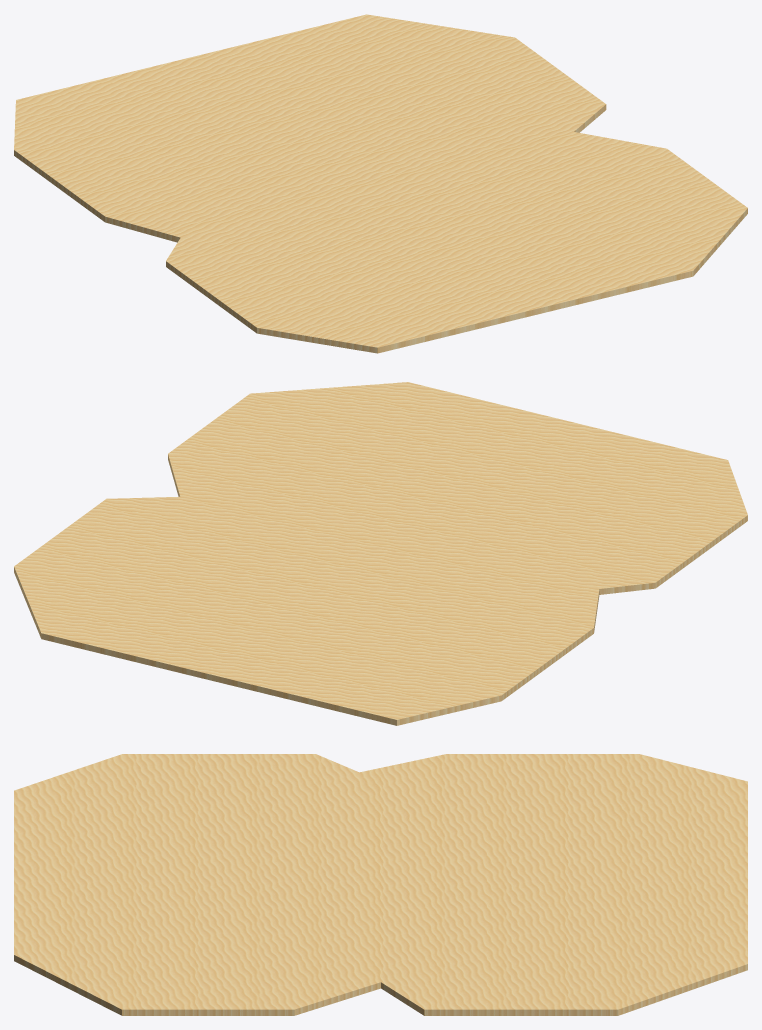
The model's file is seabed-08-BYiZG8lu.glb.
3 renders of one model, top to bottom at view 1: azimuth 30°, elevation 25°; view 2: azimuth 150°, elevation 25°; view 3: azimuth 270°, elevation 25°, orthographic. The views are drawn at different scales.
Parts seen in each view (by area): view 1: SW_SandShelf; view 2: SW_SandShelf; view 3: SW_SandShelf.
Part boxes in pixels (x1,y1,x2,y2): SW_SandShelf: (14,14,747,353); SW_SandShelf: (14,382,747,725); SW_SandShelf: (14,754,747,1015).
Size of what is drawn, in the model's own units: 28 by 0.32 by 34.
Materials: 1 (1 with a texture image).
